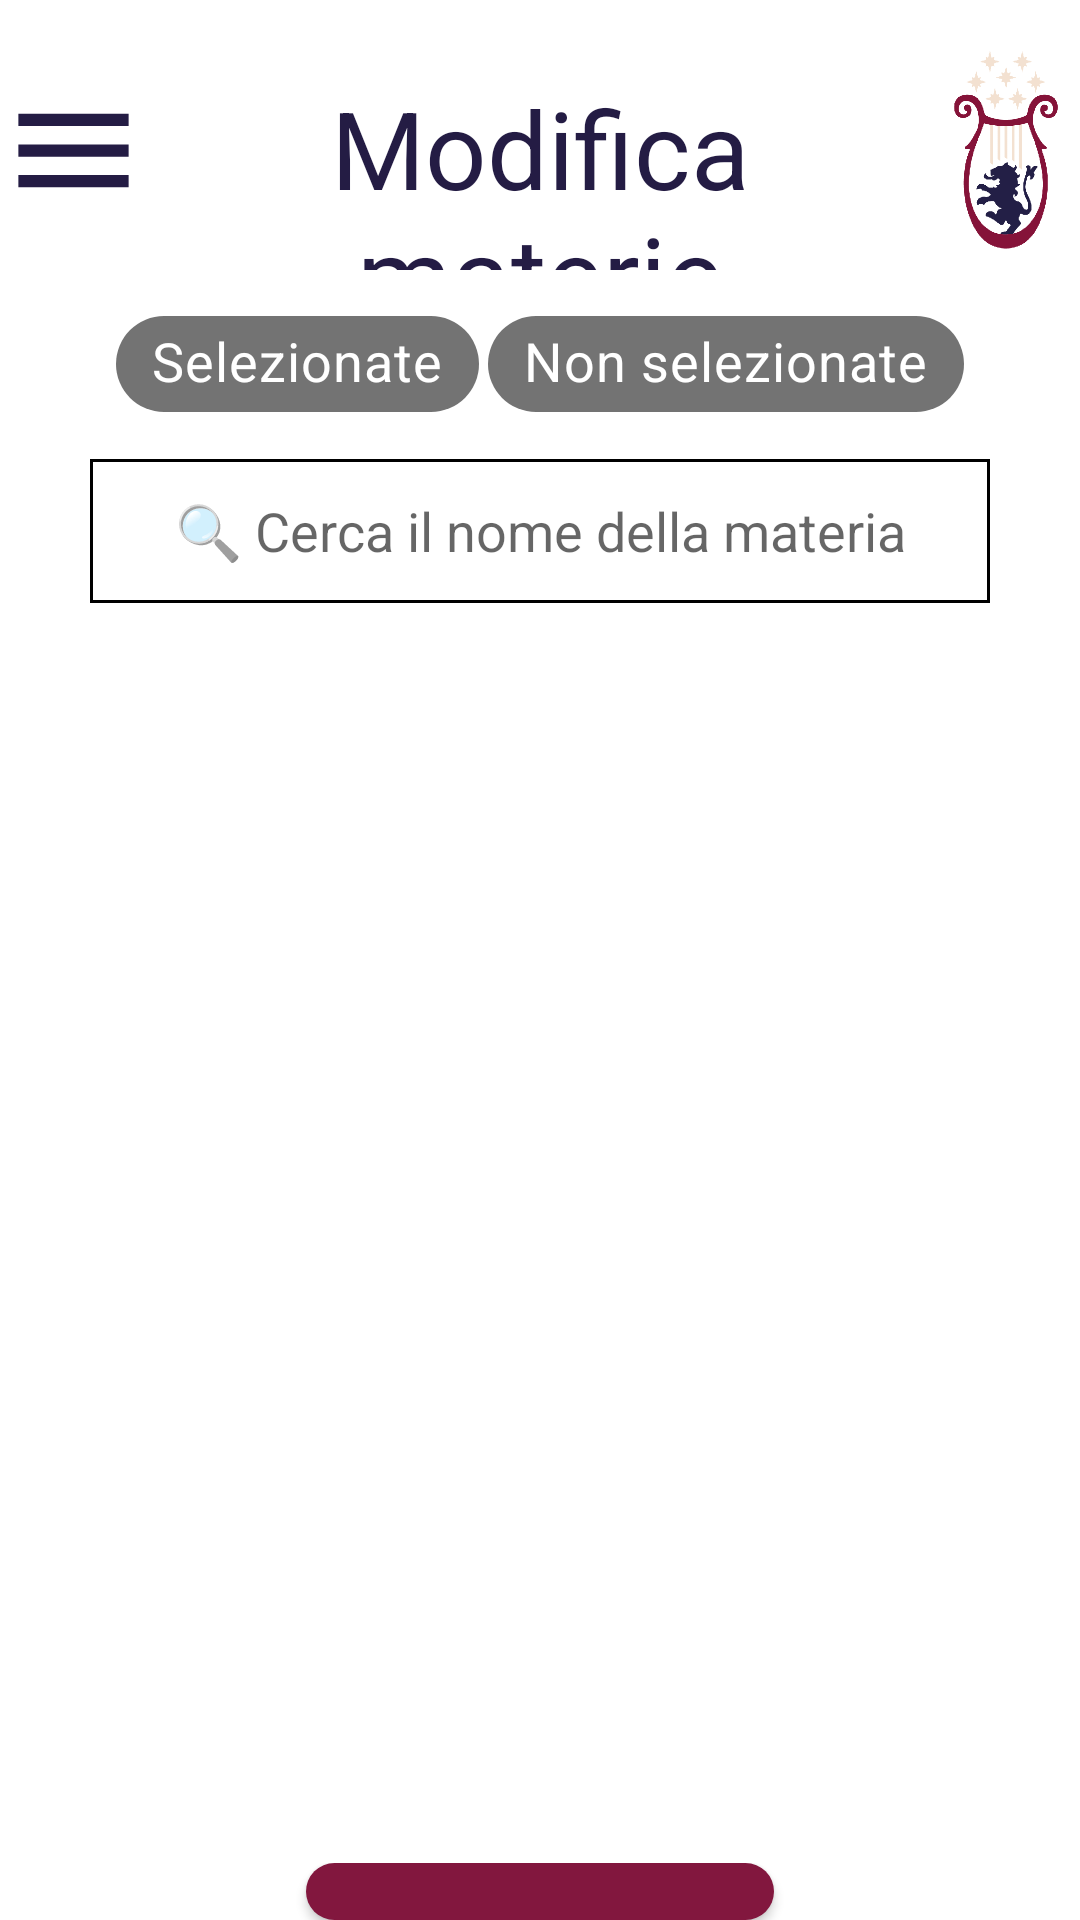

Named icons in this screenshot (1080×1920) and their bounding boxes, (x1, y1, x2, y2):
menu: (18, 113, 129, 188)
